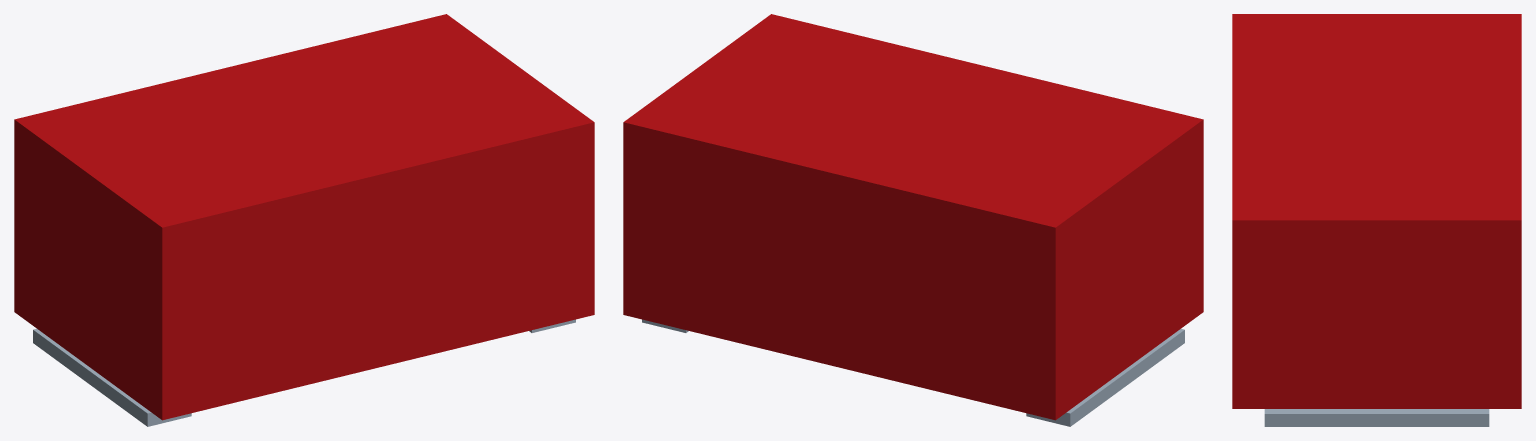
Rendered from 43_L96_W059_Jumper.fbx.
3 views of the same model, side by side, from view 1: azimuth 30°, elevation 25°; view 2: azimuth 150°, elevation 25°; view 3: azimuth 270°, elevation 25° (orthographic). The views are drawn at different scales.
Visible parts, largest first — view 1: W059_000_Removable_Jumper_Shell, W059_003_Solder_Contact; view 2: W059_000_Removable_Jumper_Shell, W059_003_Solder_Contact; view 3: W059_000_Removable_Jumper_Shell, W059_004_Solder_Contact.
Part boxes in pixels (x1,y1,x2,y2): W059_000_Removable_Jumper_Shell: (14, 14, 594, 420); W059_003_Solder_Contact: (33, 329, 191, 426); W059_000_Removable_Jumper_Shell: (623, 14, 1203, 420); W059_003_Solder_Contact: (1026, 329, 1184, 426); W059_000_Removable_Jumper_Shell: (1232, 14, 1521, 408); W059_004_Solder_Contact: (1264, 409, 1489, 426).
Bounding box in the file's own units: 0.0054 × 0.0028 × 0.0032.
